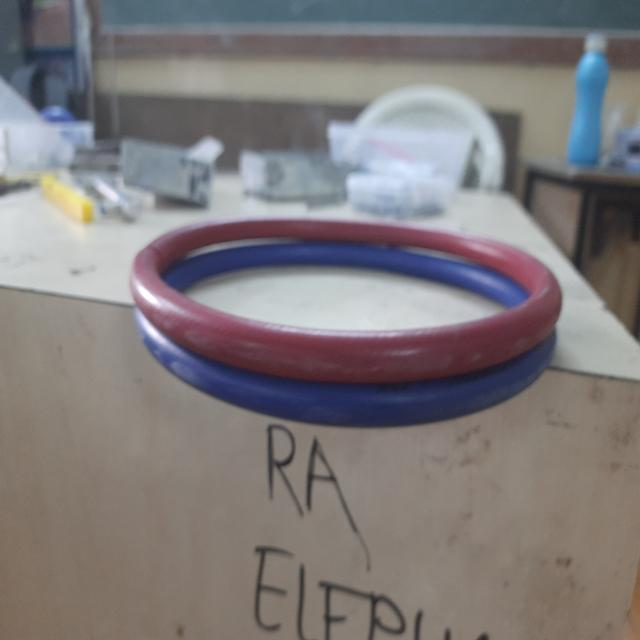daire: (148, 217, 559, 365), (220, 374, 528, 430)
